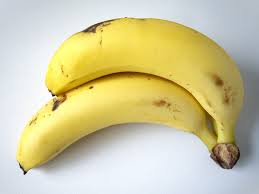banana: (13, 10, 250, 177)
